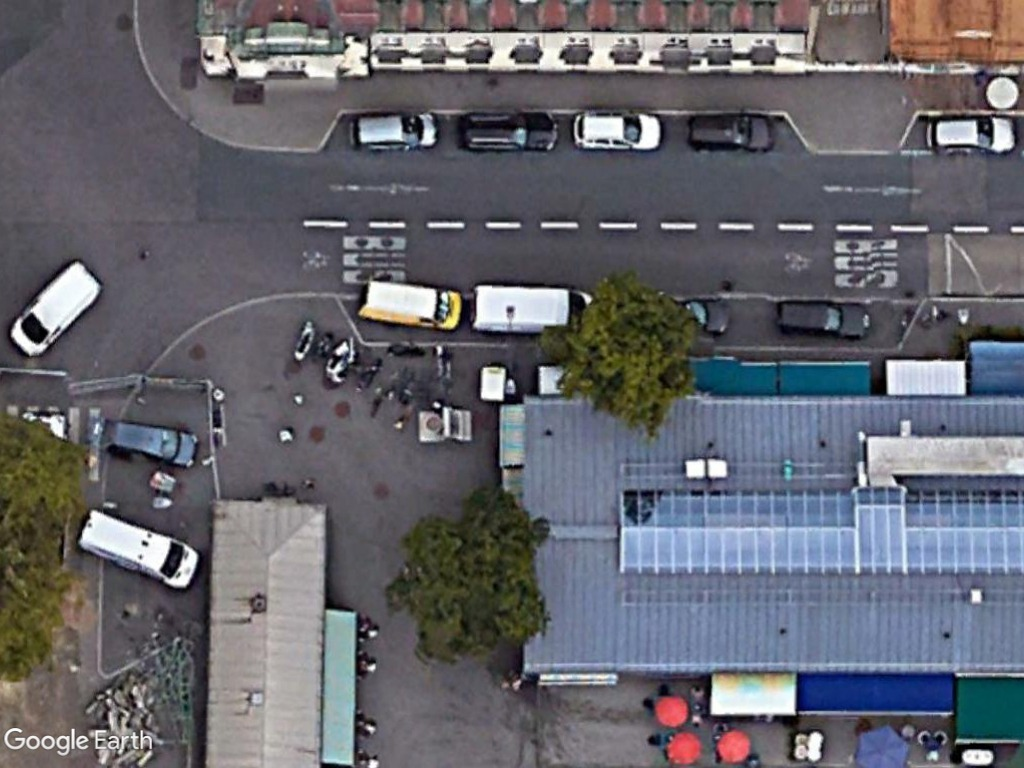car: (98, 414, 203, 471), (772, 295, 876, 342), (458, 110, 564, 156), (342, 108, 443, 153), (921, 113, 1015, 160), (569, 108, 666, 153), (683, 112, 776, 157)
van: (74, 505, 204, 595), (4, 250, 103, 361), (356, 276, 464, 331)
